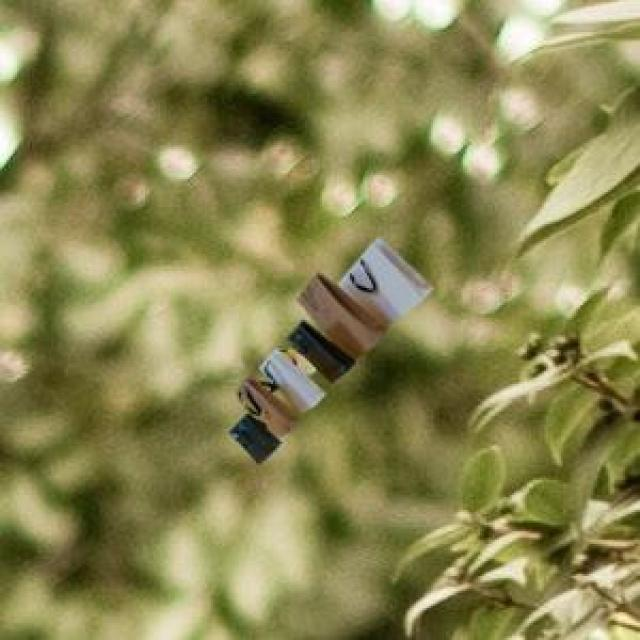paper: (226, 235, 429, 459)
